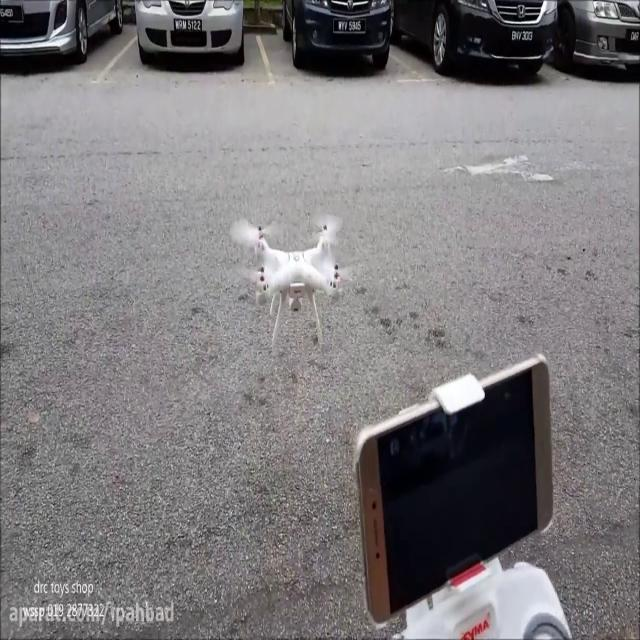drone: (229, 205, 357, 355)
